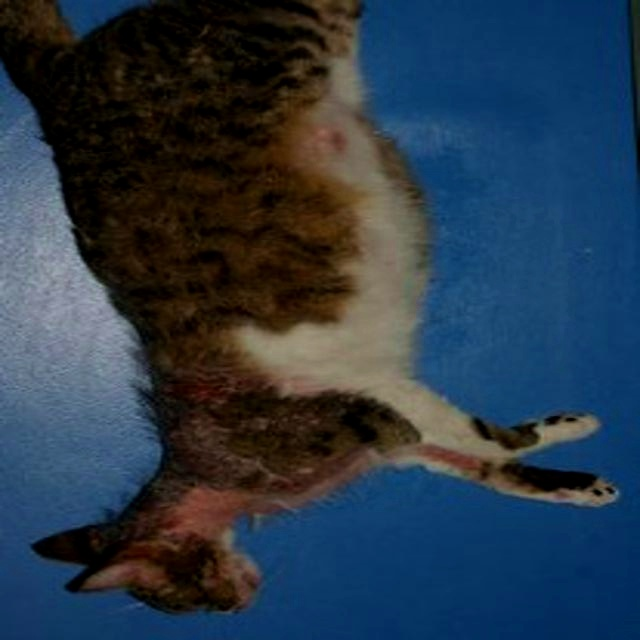hairloss: (250, 79, 423, 390)
